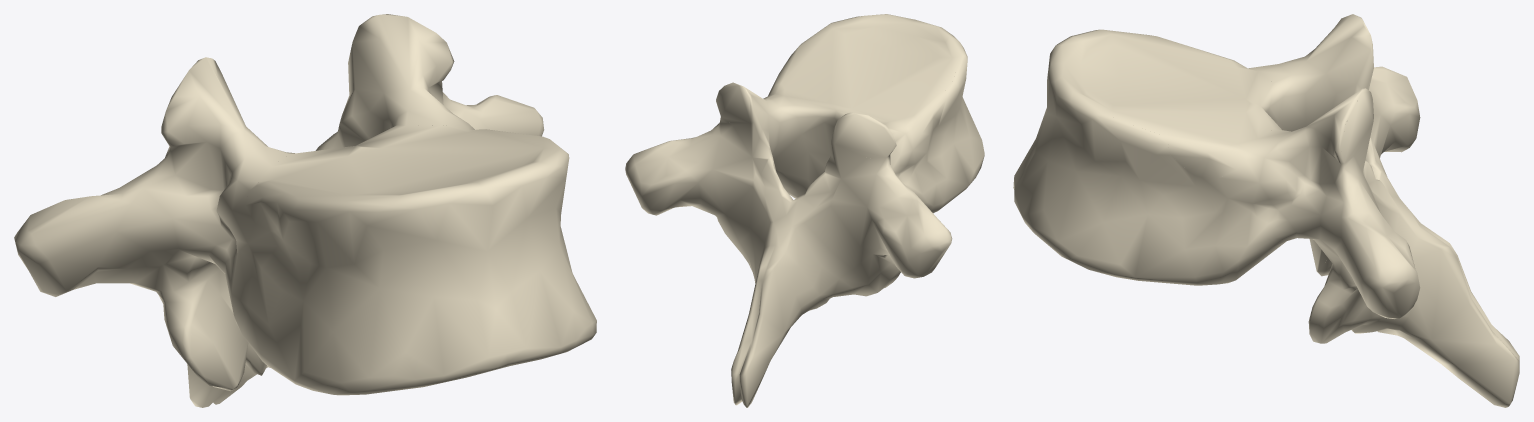
The model's file is esqueleto-vertebra-t10.glb.
The picture shows the model from 3 angles, left to right: view 1: azimuth 30°, elevation 25°; view 2: azimuth 150°, elevation 25°; view 3: azimuth 270°, elevation 25°; orthographic projection. The views are drawn at different scales.
Visible parts, largest first — view 1: Vertebra T10; view 2: Vertebra T10; view 3: Vertebra T10.
Boxes of the visible parts, x1,y1,x2,y2 form: Vertebra T10: (14,14,596,407); Vertebra T10: (625,14,984,407); Vertebra T10: (1013,14,1519,407).
Bounding box in the file's own units: 0.0752 × 0.0593 × 0.0777.
